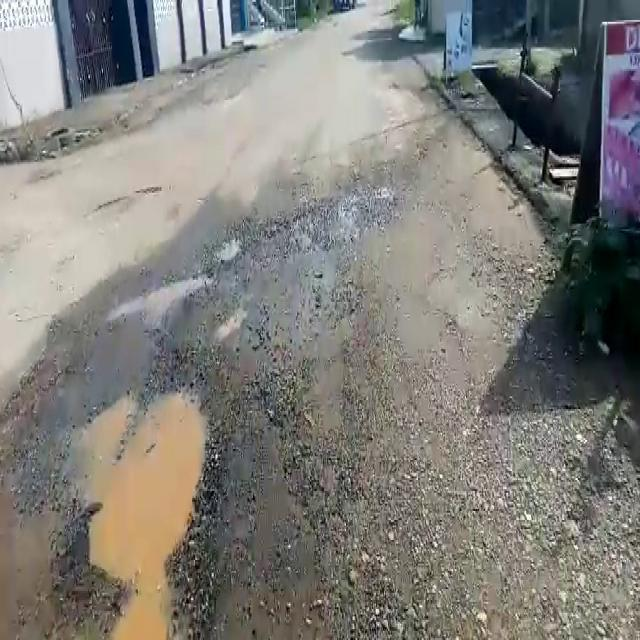pothole: (74, 386, 207, 592)
